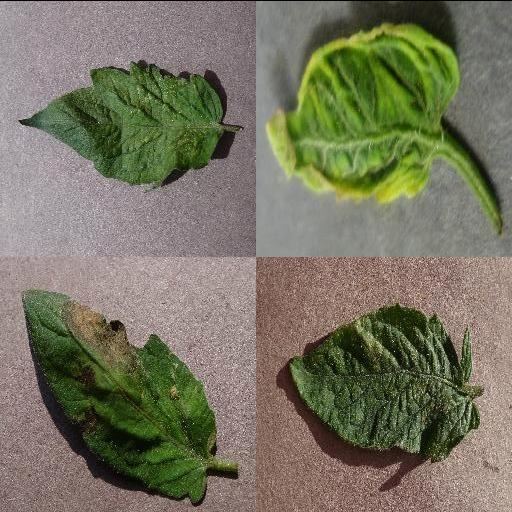Late Blight: (21, 287, 219, 505)
Spider Mites: (288, 303, 482, 462), (17, 61, 225, 185)
Yellow Leaf Curl Virus: (264, 21, 460, 205)
